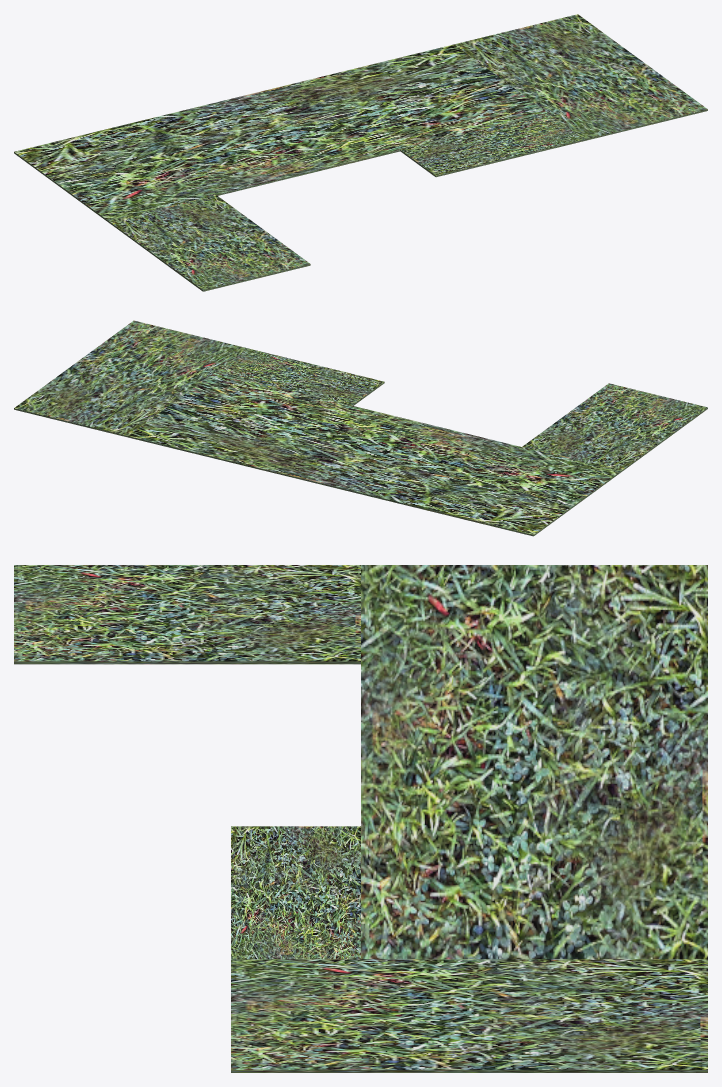
The model's file is OuterGrass.fbx.
3 renders of one model, top to bottom at view 1: azimuth 30°, elevation 25°; view 2: azimuth 150°, elevation 25°; view 3: azimuth 270°, elevation 25°, orthographic. The views are drawn at different scales.
Parts seen in each view (by area): view 1: Grass; view 2: Grass; view 3: Grass.
Boxes of the visible parts, x1=… form: Grass: x1=14, y1=14, x2=707, y2=291; Grass: x1=14, y1=320, x2=707, y2=536; Grass: x1=14, y1=565, x2=707, y2=1072.
Bounding box in the file's own units: 5508 × 15 × 3200.
